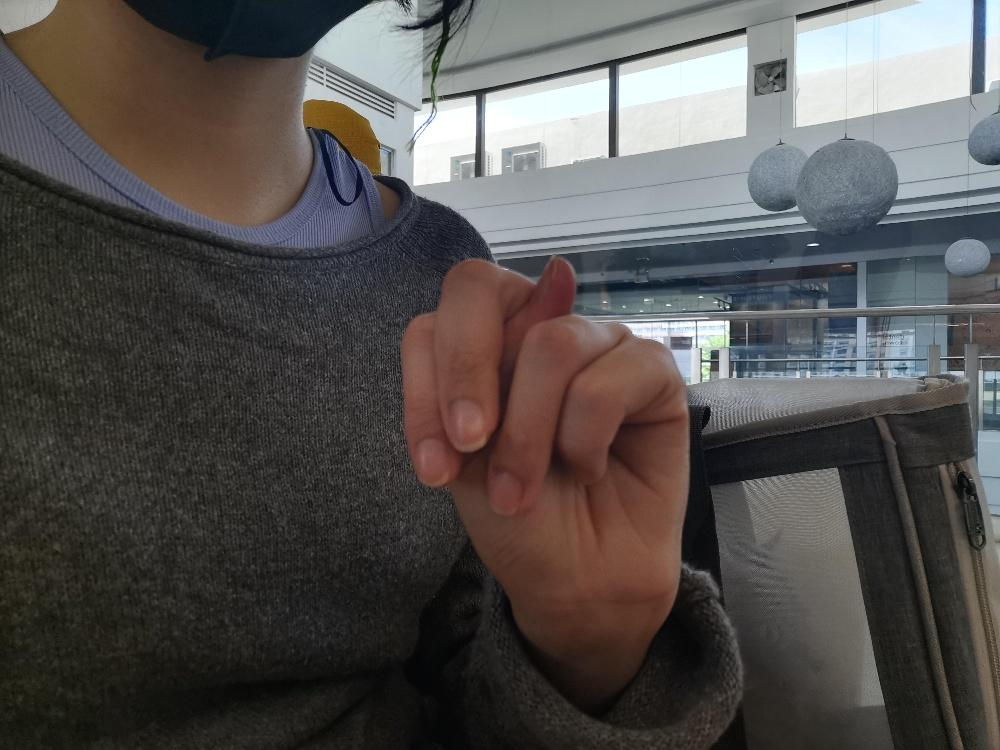n: (397, 251, 692, 605)
